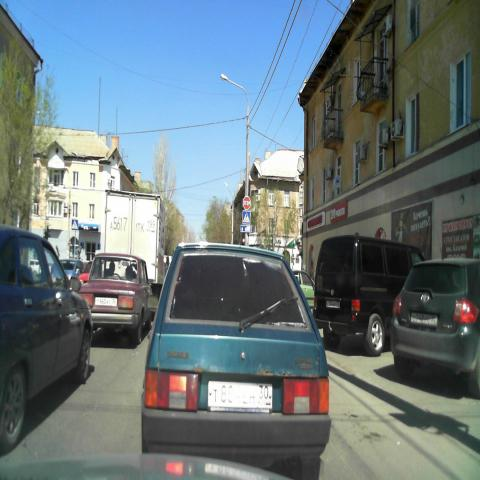2_5: (243, 196, 250, 210)
